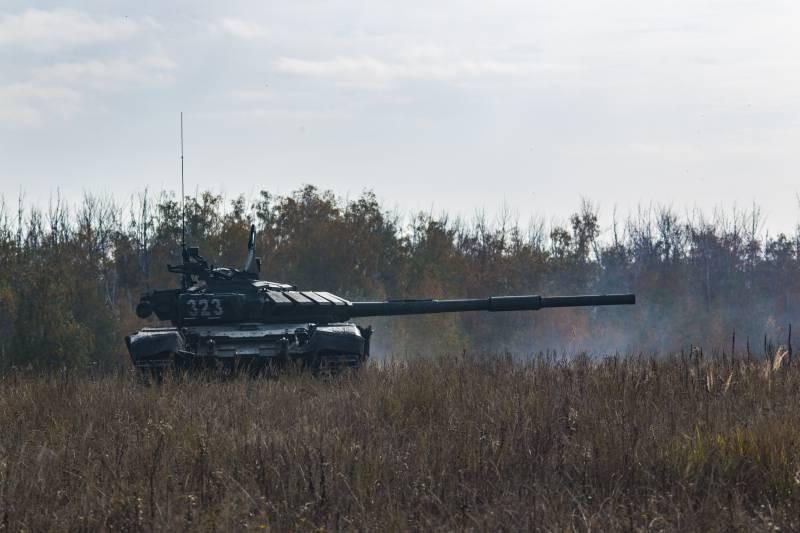tank: (124, 225, 636, 381)
